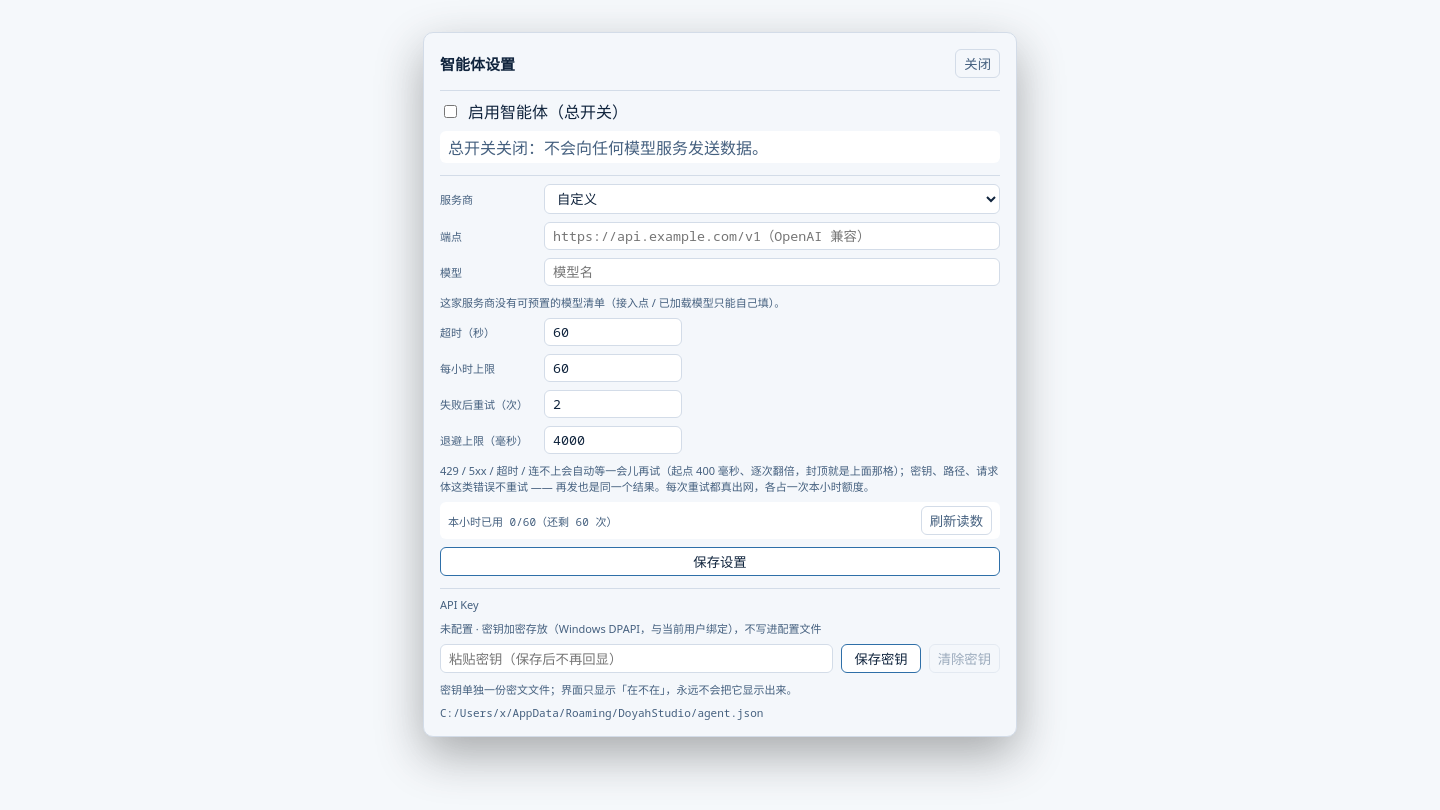
Scenario: 智能体设置弹层 › 密钥保存后输入框立刻清空（不回显），且状态改成「已配置」
Type "sk-round14-secret" into the password field with test id "agent-key-input" at (637,658), box [440,644,833,673]
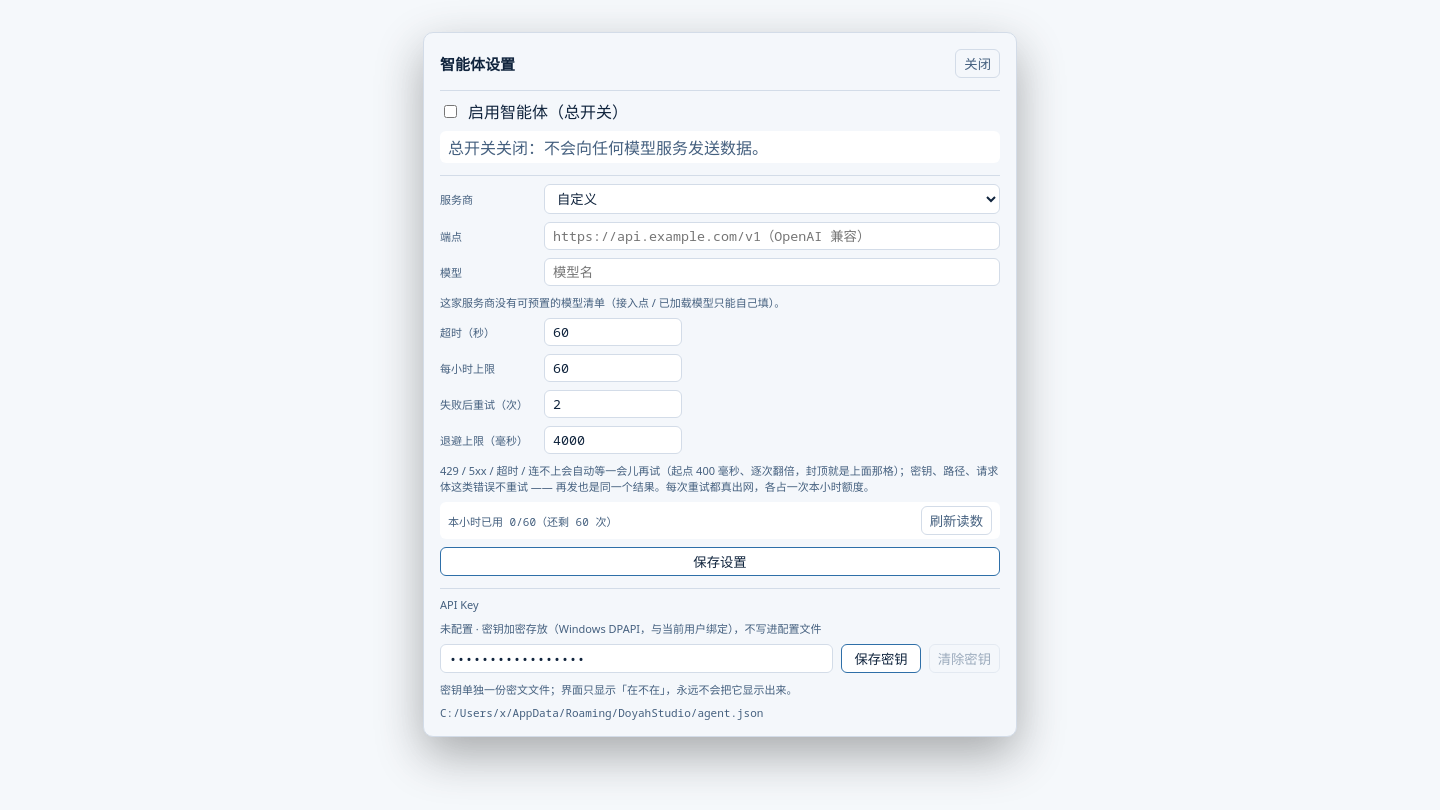
Click the button with test id "agent-key-save" at (881,658), box [841,644,921,673]
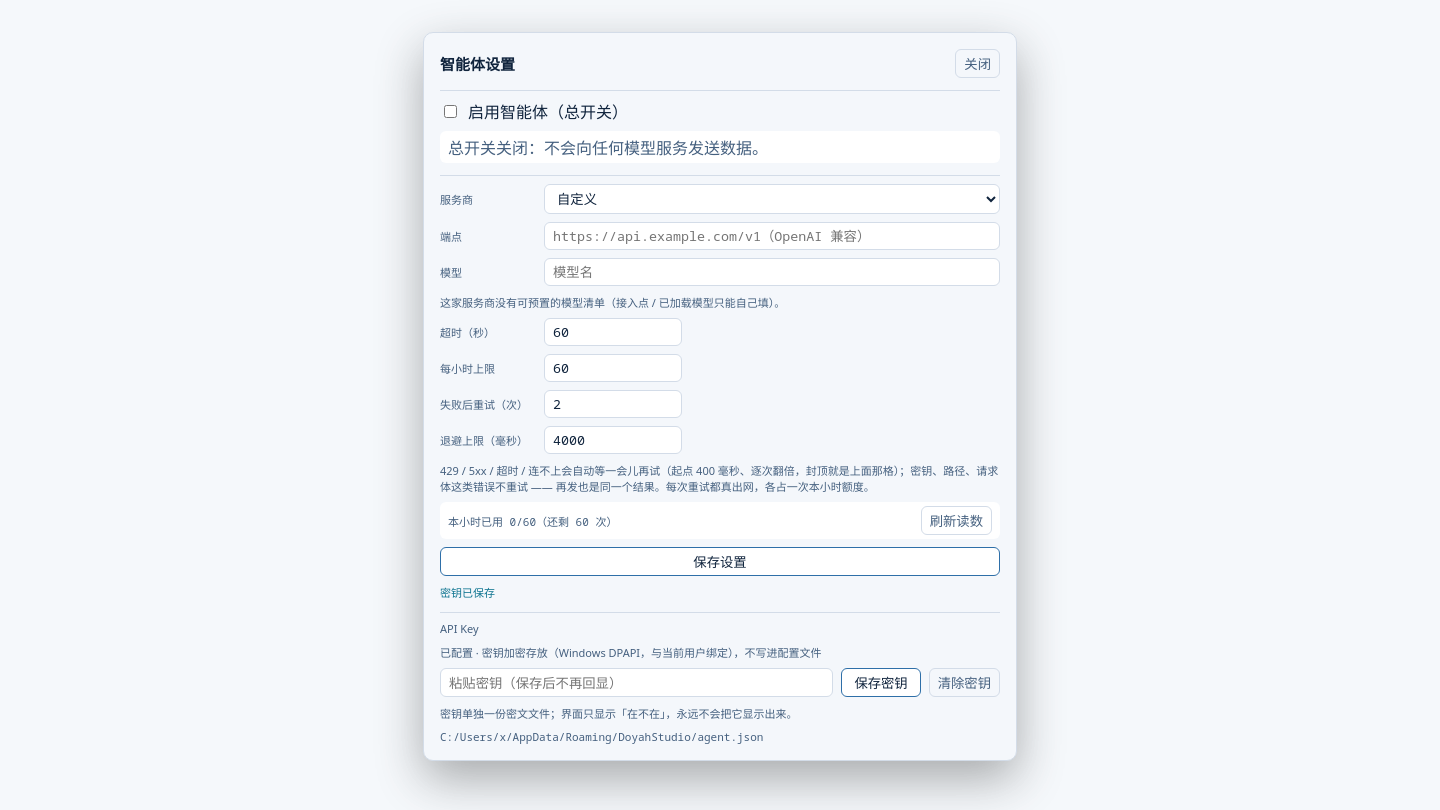
Expected: the password field with test id "agent-key-input" is empty, [440,668,833,697]
Expected: the text with test id "agent-key-state" shows "已配置", [440,645,822,660]
